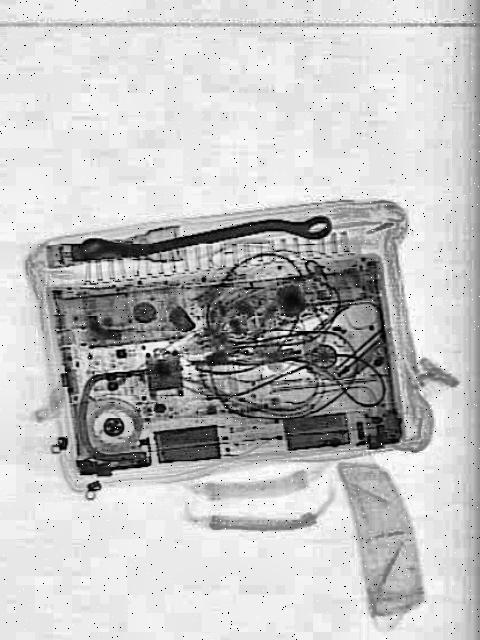Wrench: (82, 210, 334, 262)
